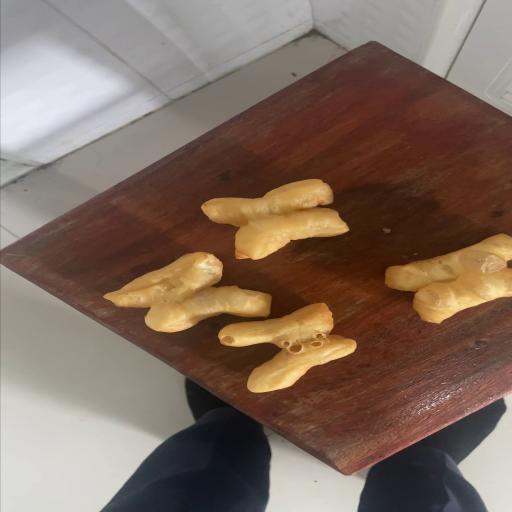street_golden_defect: (217, 304, 354, 392)
street_golden_good: (107, 252, 270, 330), (202, 181, 348, 258)
